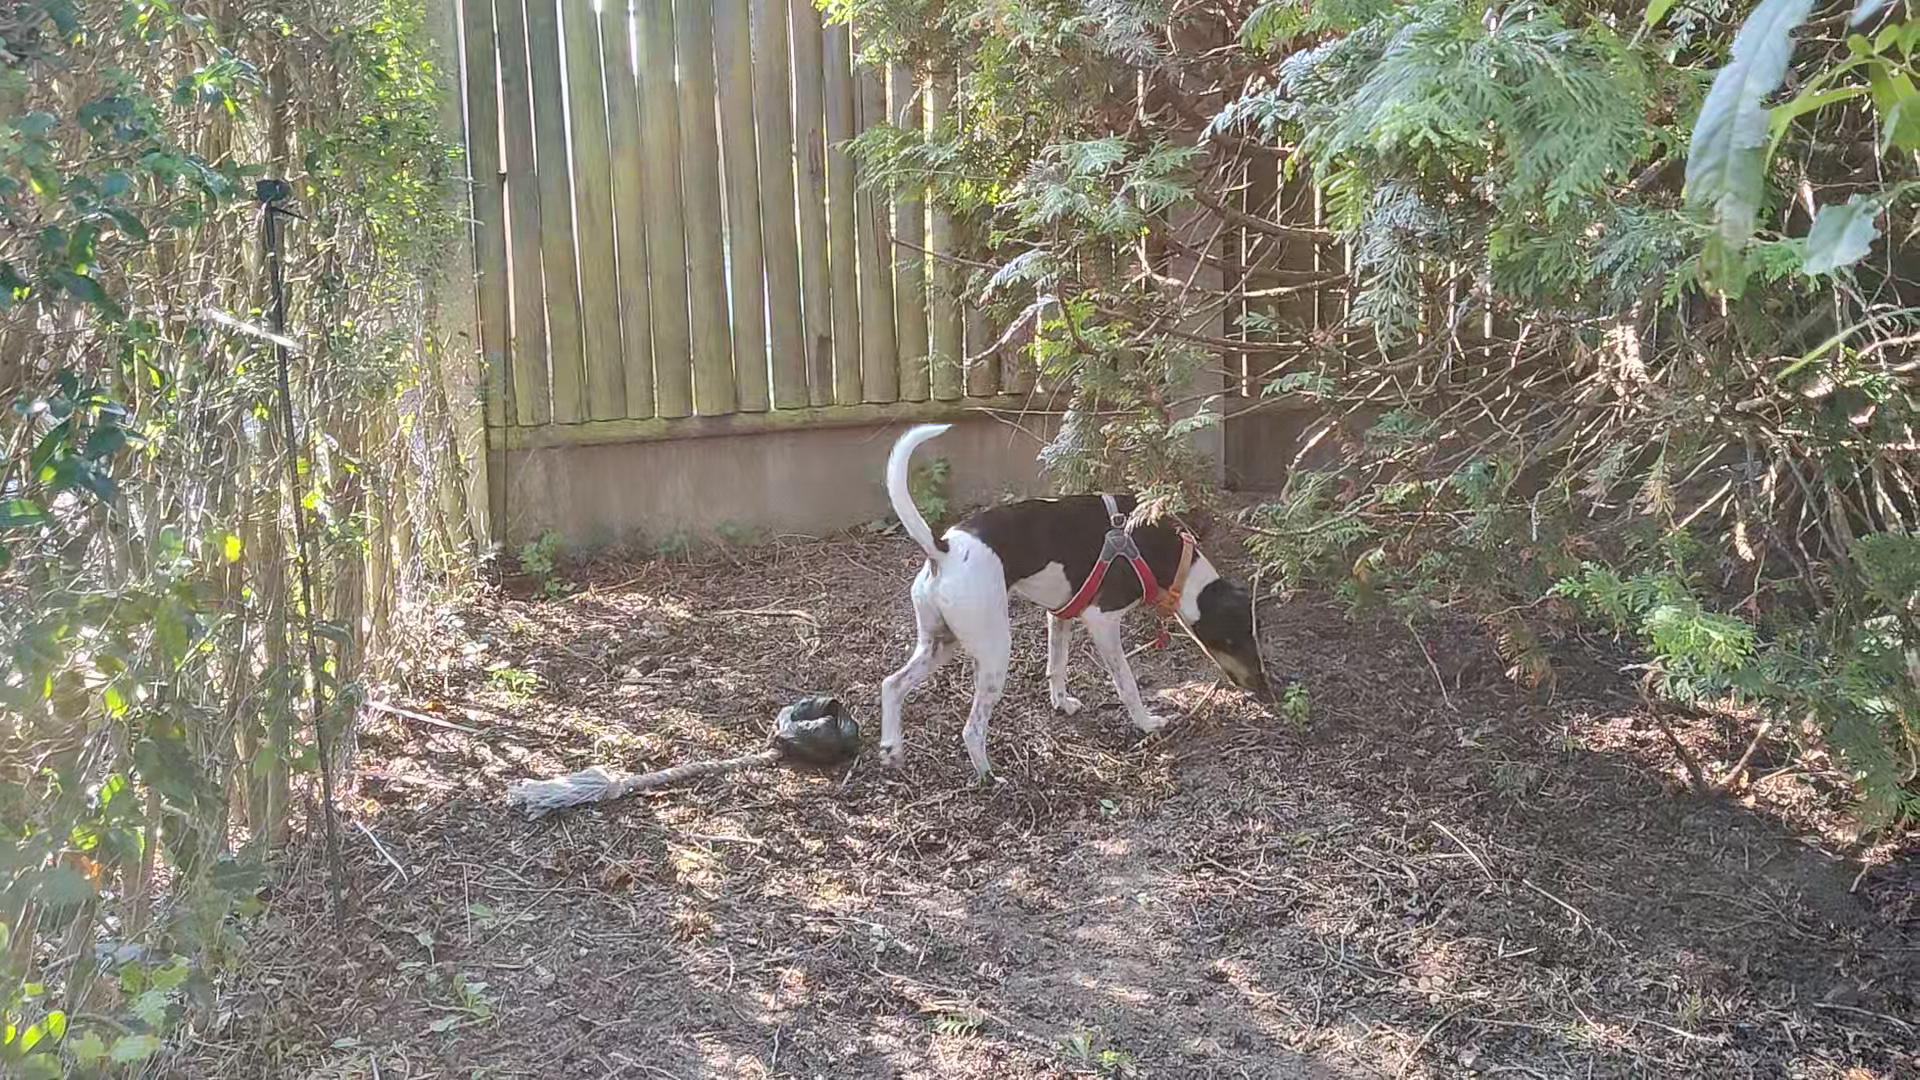Dog: (855, 414, 1280, 793)
